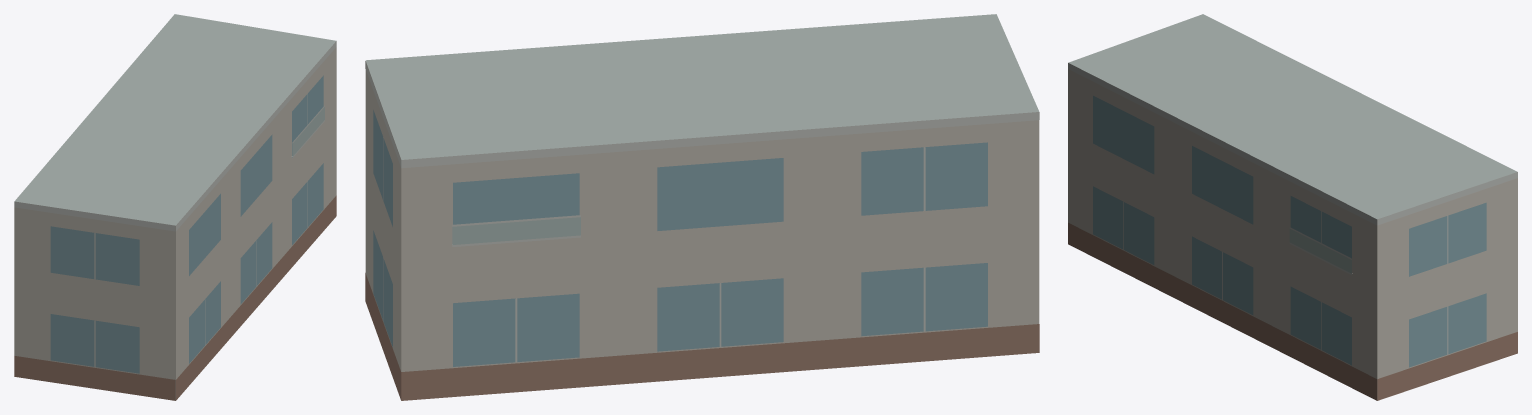
The model's file is survey-upis-32724231.glb.
The picture shows the model from 3 angles, left to right: view 1: azimuth 30°, elevation 25°; view 2: azimuth 150°, elevation 25°; view 3: azimuth 270°, elevation 25°; orthographic projection. The views are drawn at different scales.
Parts seen in each view (by area): view 1: survey-upis-32724231.tmp; view 2: survey-upis-32724231.tmp; view 3: survey-upis-32724231.tmp.
Part boxes in pixels (box(x1,y1,x2,y2)): survey-upis-32724231.tmp: box(14, 14, 336, 400); survey-upis-32724231.tmp: box(365, 14, 1039, 400); survey-upis-32724231.tmp: box(1068, 14, 1517, 400).
Size of the model in its own units: 17.36 by 7.15 by 16.06.
